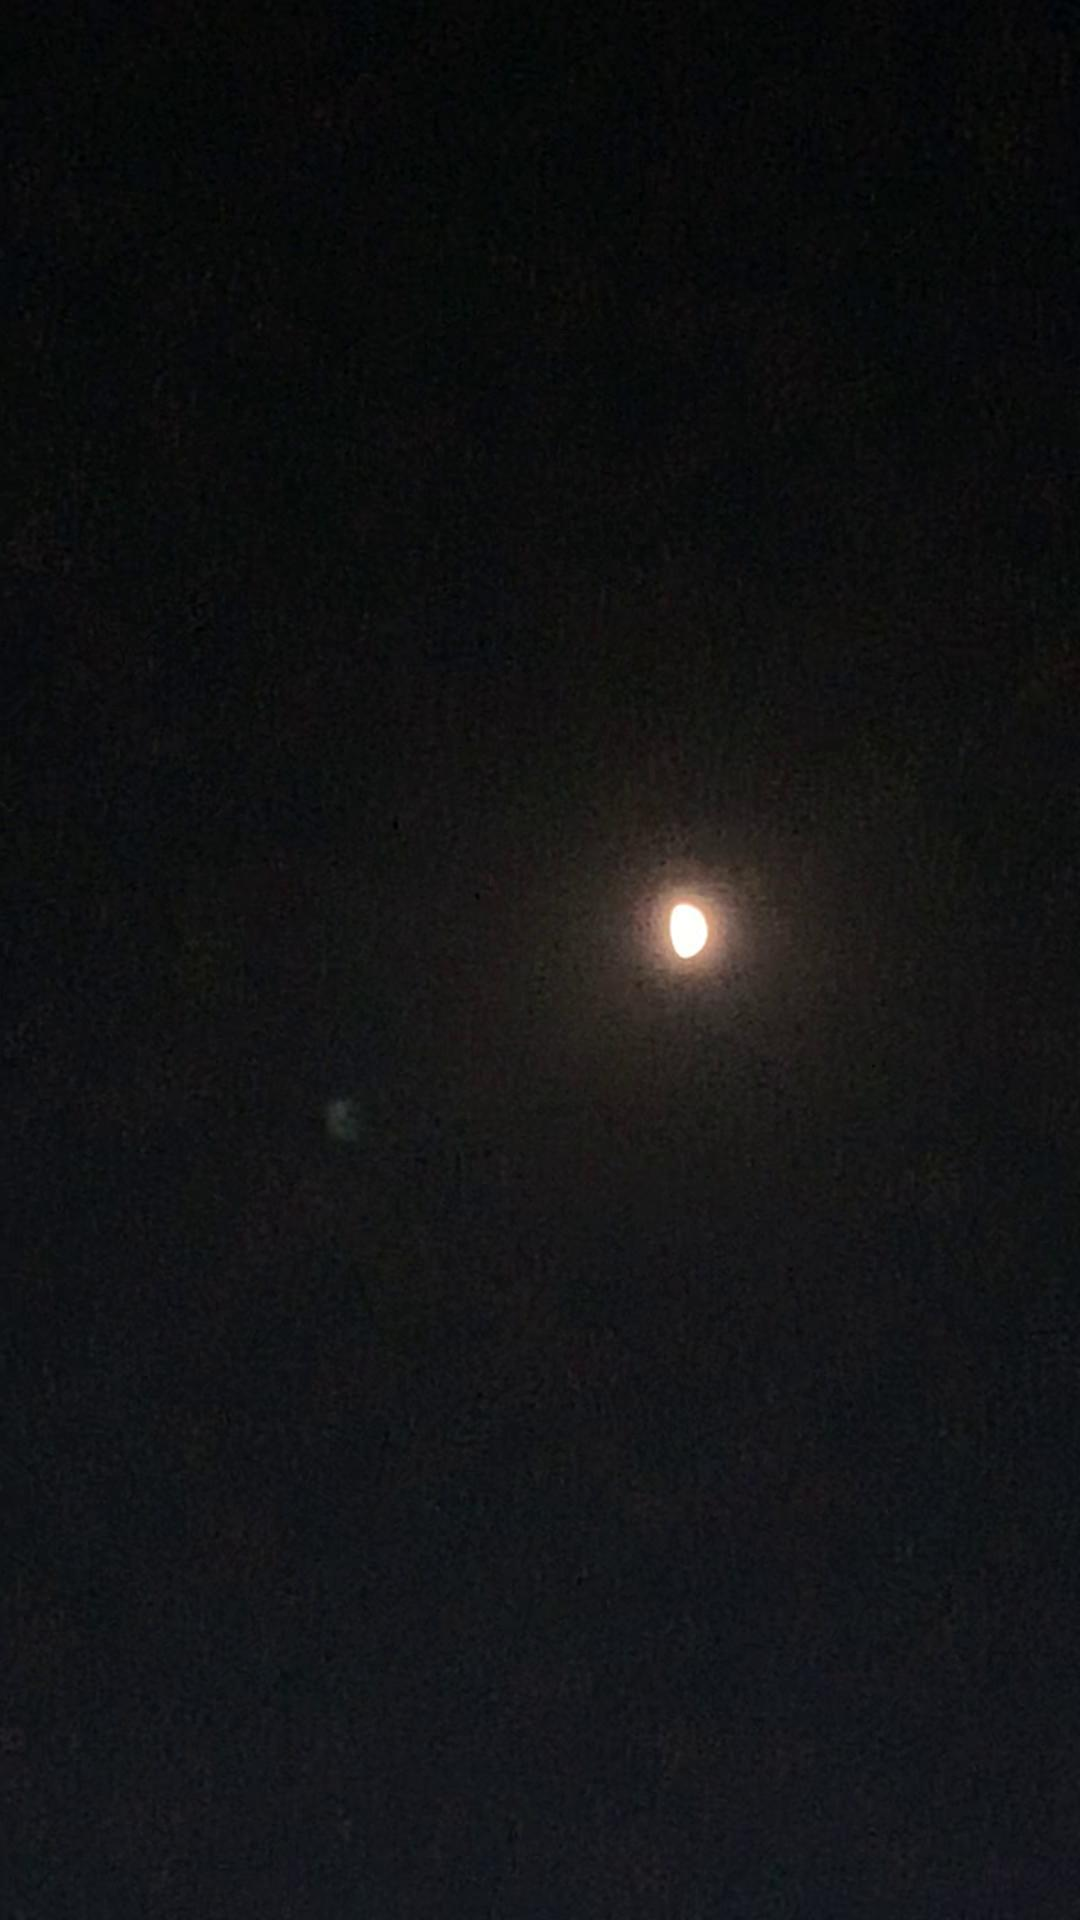moon: (640, 868, 732, 965)
